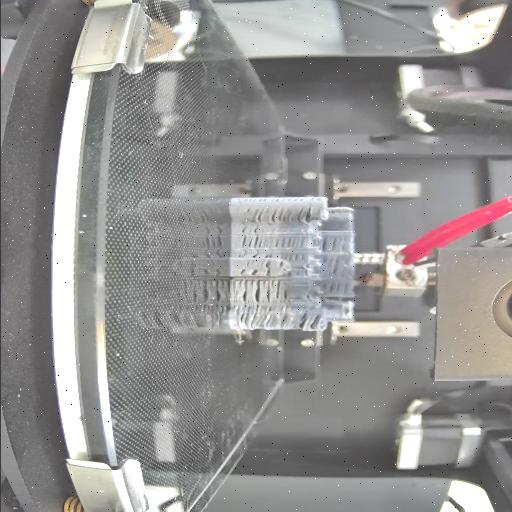cracks: (234, 306, 286, 330), (254, 208, 312, 222), (234, 280, 270, 302), (298, 311, 321, 331), (272, 280, 290, 300), (240, 235, 264, 249), (234, 250, 274, 258), (272, 238, 304, 248), (323, 280, 343, 292), (321, 236, 337, 250), (240, 224, 261, 233), (236, 268, 256, 276), (286, 268, 306, 276), (283, 253, 303, 261), (263, 260, 271, 278), (332, 256, 340, 274), (275, 260, 283, 270)
